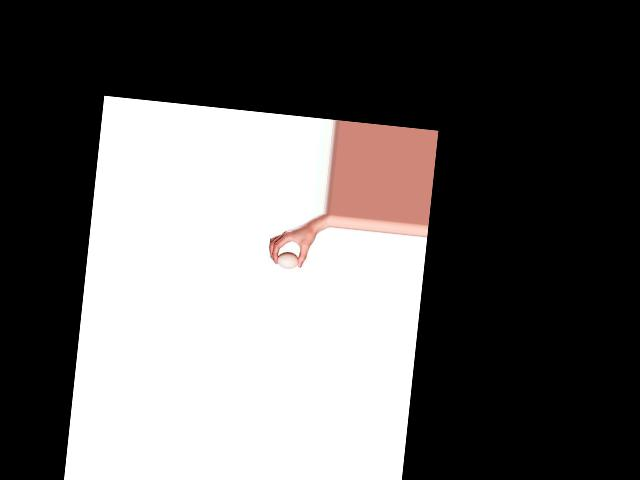egg: (276, 251, 299, 269)
